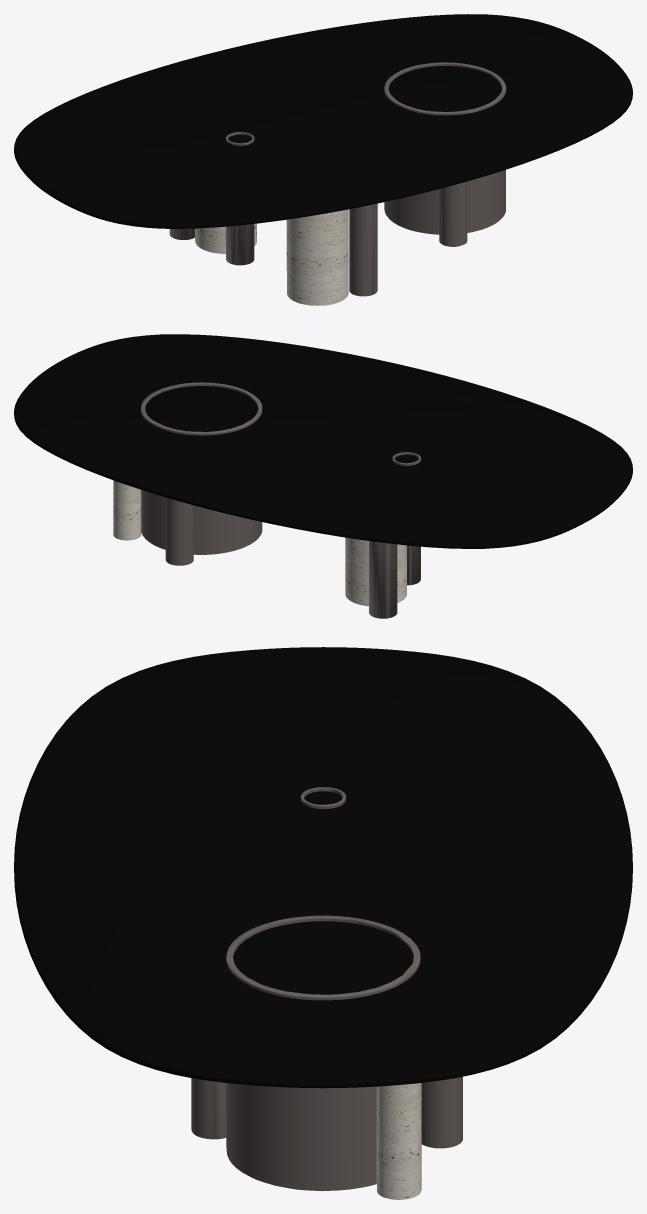
File: txKsEtb2_1454*871*303.glb
3 renders of one model, top to bottom at view 1: azimuth 30°, elevation 25°; view 2: azimuth 150°, elevation 25°; view 3: azimuth 270°, elevation 25°, orthographic. The views are drawn at different scales.
Parts seen in each view (by area): view 1: SK_Glass_1, SK_Solid_1, SK_Solid_2; view 2: SK_Glass_1, SK_Solid_1, SK_Solid_2; view 3: SK_Glass_1, SK_Solid_1, SK_Solid_2.
Part boxes in pixels (bbox=[...]): SK_Glass_1: bbox=[14, 14, 632, 228]; SK_Solid_1: bbox=[169, 62, 506, 296]; SK_Solid_2: bbox=[195, 209, 348, 305]; SK_Glass_1: bbox=[14, 334, 632, 548]; SK_Solid_1: bbox=[141, 382, 420, 618]; SK_Solid_2: bbox=[113, 480, 406, 606]; SK_Glass_1: bbox=[14, 647, 632, 1088]; SK_Solid_1: bbox=[191, 787, 462, 1191]; SK_Solid_2: bbox=[376, 1083, 421, 1199].
Size of the model in its own units: 1.45 by 0.3026 by 0.8709.
Materials: 3 (3 with a texture image).
